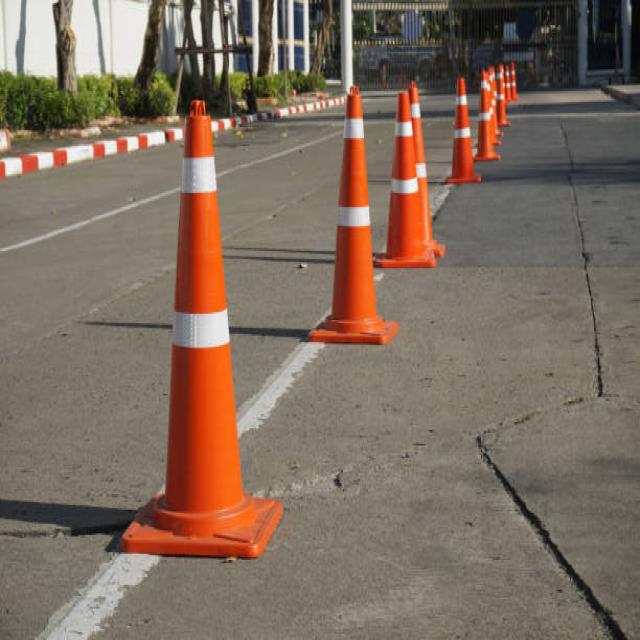Traffic Cone: (94, 66, 298, 586), (306, 68, 403, 369), (370, 70, 454, 280), (442, 68, 489, 204)
